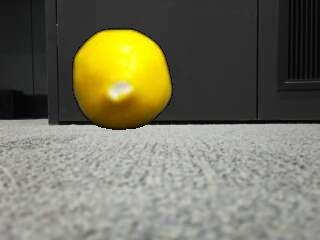lemon: (76, 30, 172, 129)
